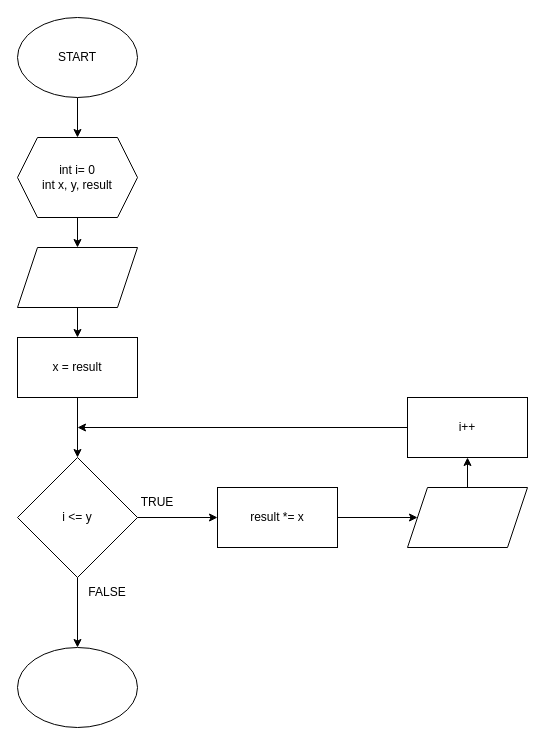
The diagram is 545 pixels wide and 745 high, and some of its shapes have lost their labels. The box of each missing label's shape, as (x1, y1, x2, y2) in pixels:
END: (16, 646, 138, 728)
input x, y: (16, 246, 138, 308)
print(x): (406, 486, 528, 548)
